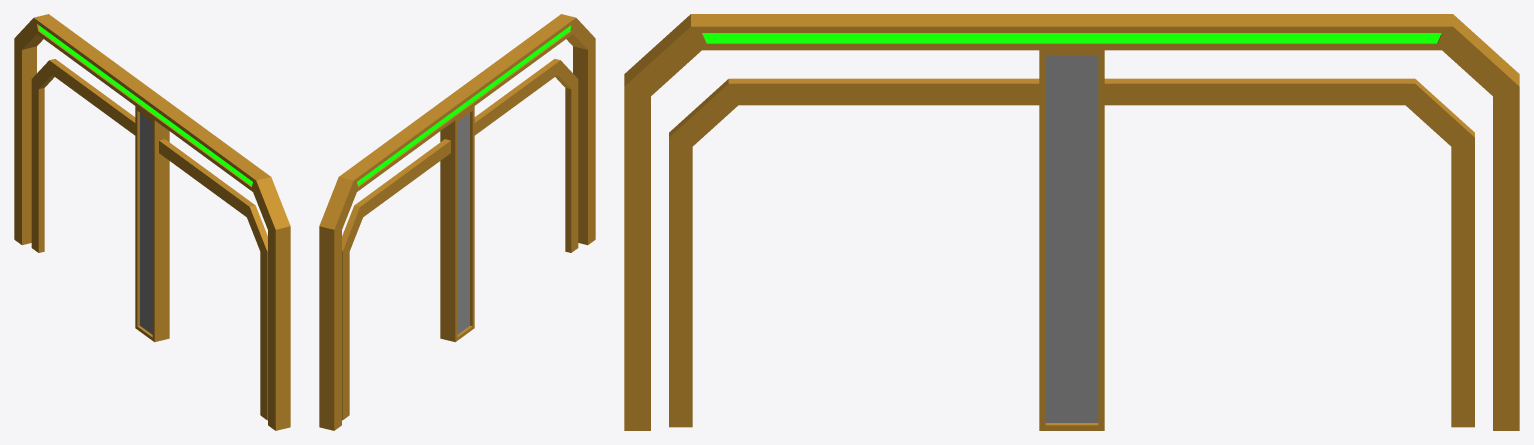
The model's file is Fence_08.FBX.
3 renders of one model, left to right at view 1: azimuth 30°, elevation 25°; view 2: azimuth 150°, elevation 25°; view 3: azimuth 270°, elevation 25°, orthographic. The views are drawn at different scales.
Visible parts, largest first — view 1: Fence_08_LOD0; view 2: Fence_08_LOD0; view 3: Fence_08_LOD0.
Boxes of the visible parts, bbox=[...] form: Fence_08_LOD0: bbox=[14, 14, 290, 430]; Fence_08_LOD0: bbox=[319, 14, 595, 430]; Fence_08_LOD0: bbox=[624, 14, 1519, 430].
Size of what is drawn, in the model's own units: 4 by 60.01 by 120.
